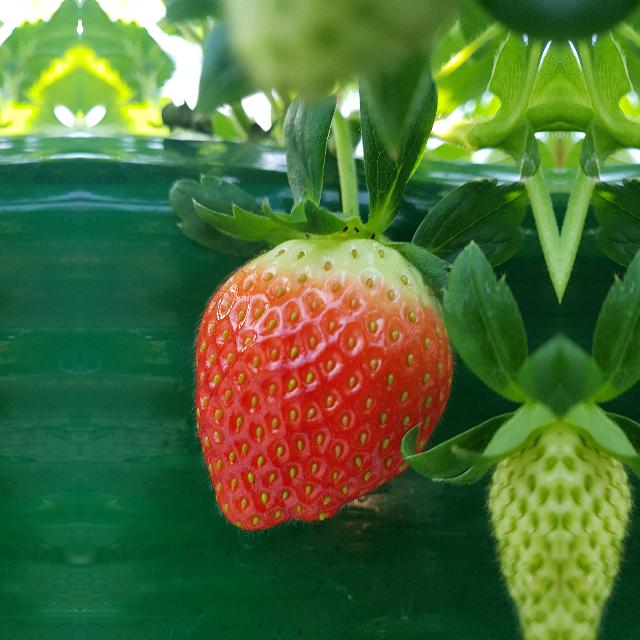Health_75: (191, 237, 453, 533)
